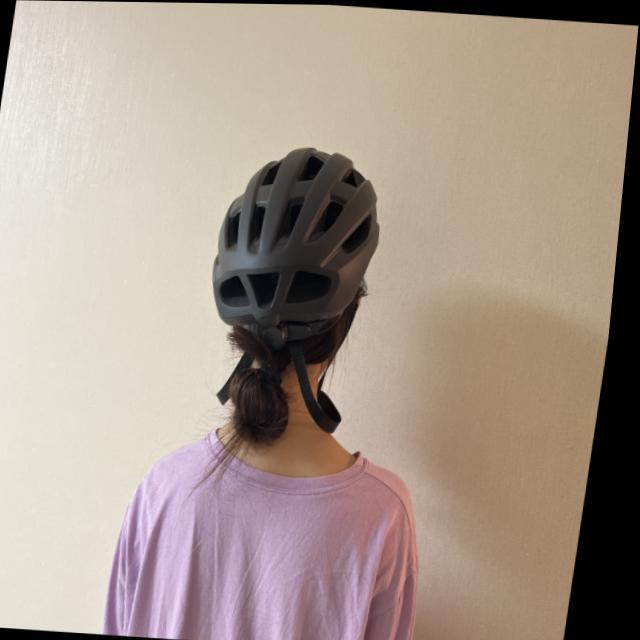Helmet: (209, 143, 379, 403)
